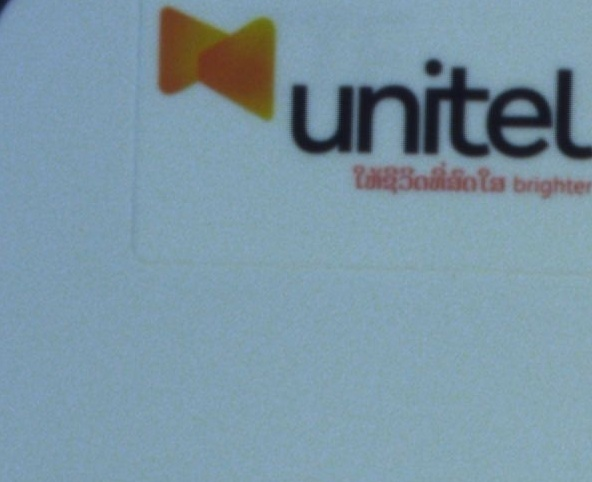BT_unitel: (158, 5, 590, 200)
